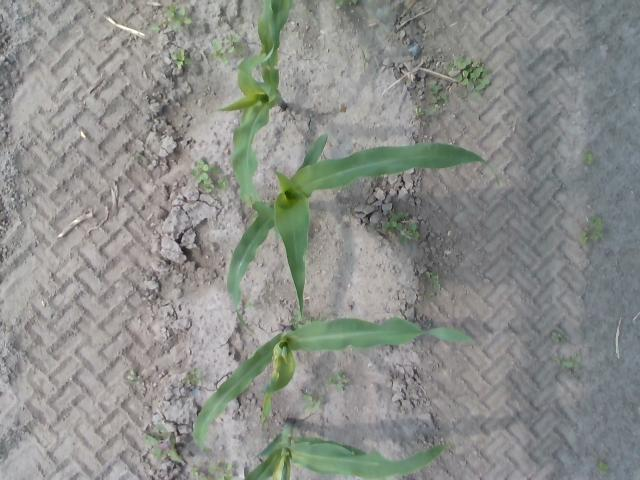Maize: (228, 133, 501, 335), (194, 315, 476, 453), (216, 1, 288, 209), (244, 419, 446, 480)
Weeds: (146, 426, 183, 463), (454, 54, 492, 90), (158, 7, 188, 29), (302, 394, 324, 418), (582, 217, 604, 239), (192, 158, 210, 183), (216, 462, 238, 480), (170, 50, 188, 68), (386, 214, 402, 232), (430, 86, 446, 104), (330, 374, 350, 388), (406, 222, 420, 240), (218, 42, 238, 54), (566, 357, 580, 370), (583, 152, 595, 166), (192, 470, 208, 480), (596, 462, 608, 472), (552, 332, 562, 342), (218, 174, 226, 186)
